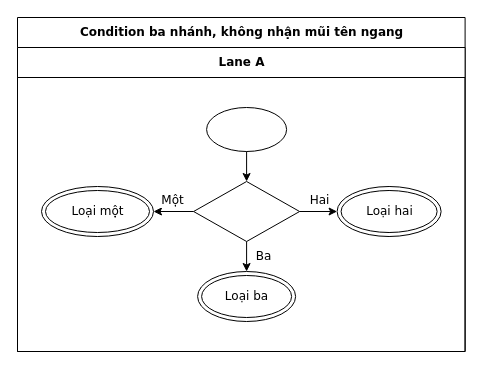
The diagram is 483 pixels wide and 369 high, and some of its shapes have lost their labels. The centre of each missing label's shape, as x and y in pixels:
"Loại nào?" goes at point 246,211.
"Vào" goes at point 246,129.
